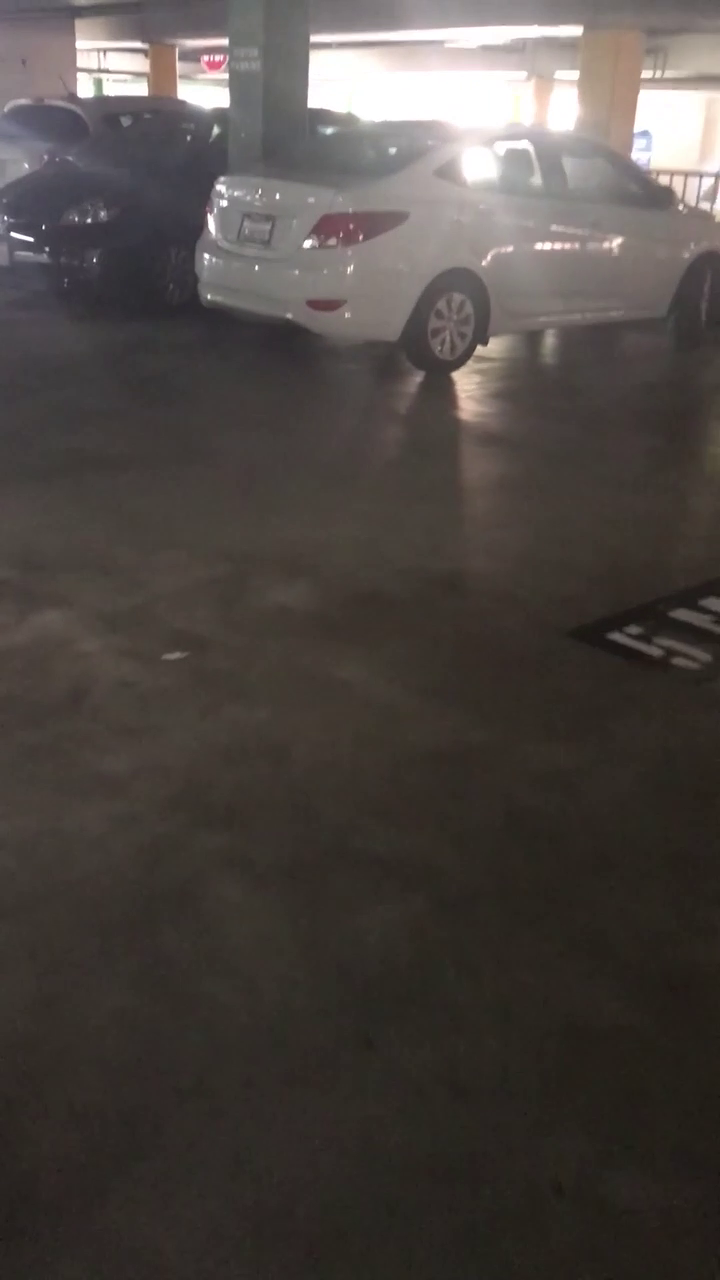car: (195, 90, 705, 363), (0, 101, 228, 311)
